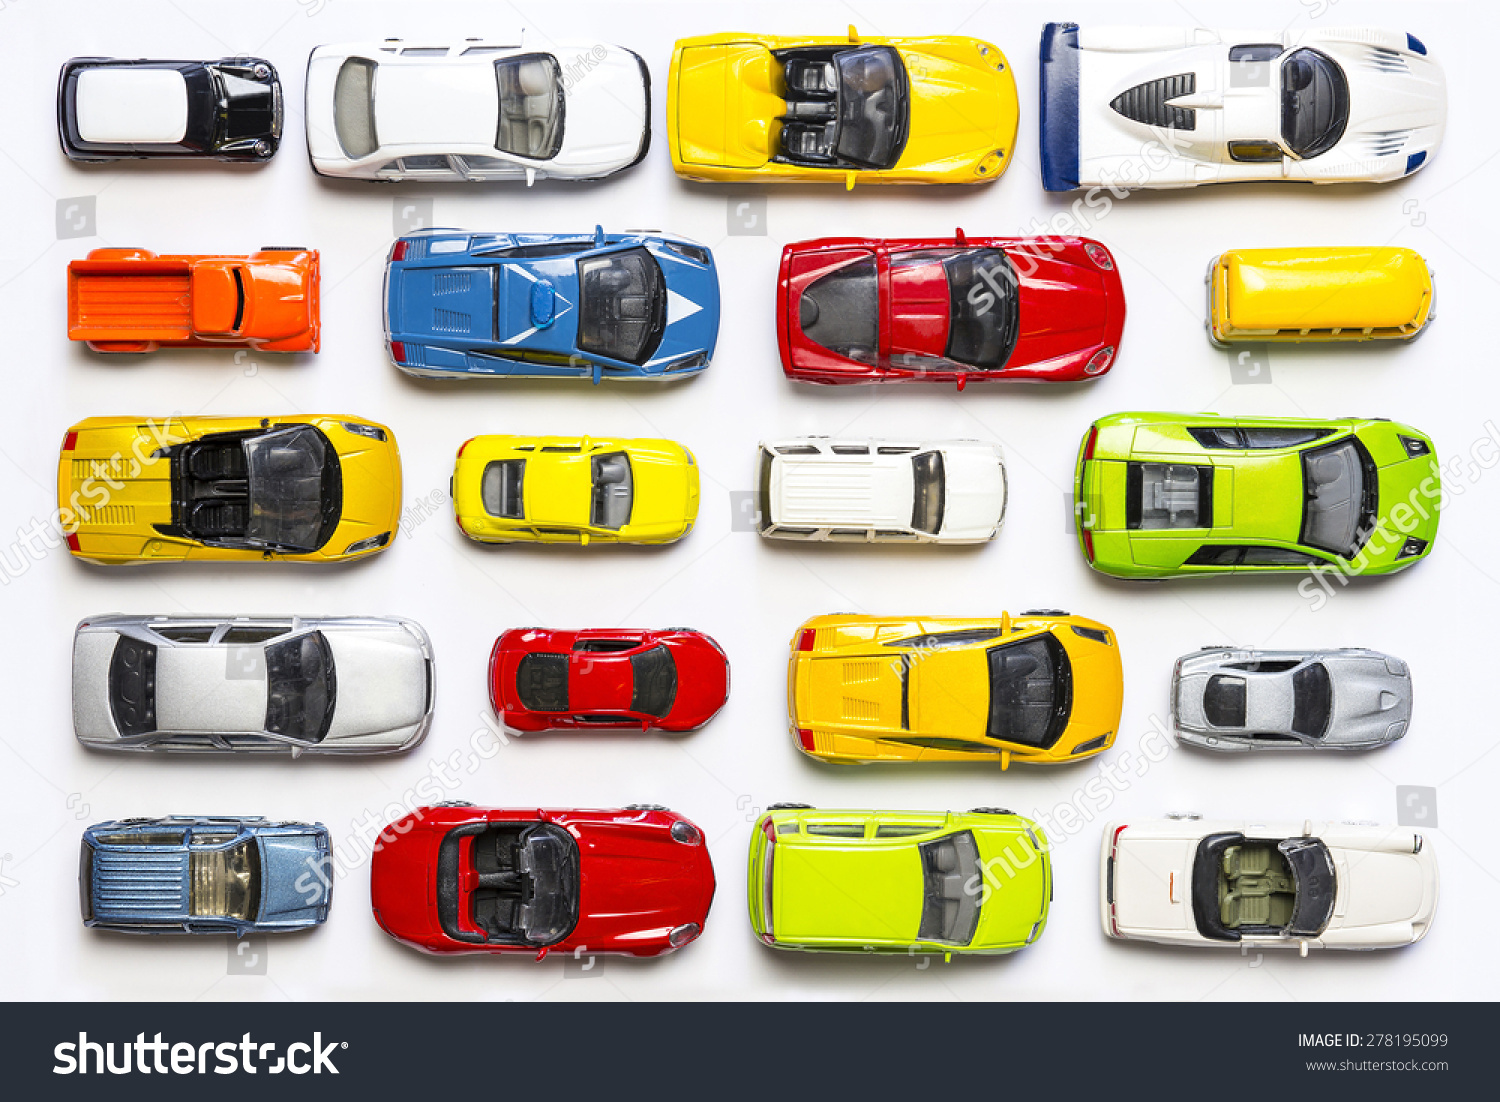Car: (1034, 19, 1457, 196), (1080, 415, 1446, 586), (369, 801, 723, 969), (779, 235, 1128, 401), (790, 607, 1133, 773), (672, 31, 1021, 195), (70, 612, 434, 767), (378, 229, 721, 394), (303, 38, 651, 192), (64, 412, 399, 571), (753, 801, 1059, 972), (1090, 808, 1439, 955), (79, 814, 337, 951), (1165, 633, 1420, 769), (69, 240, 323, 369), (451, 432, 703, 553), (756, 437, 1011, 554), (488, 620, 738, 739), (61, 51, 285, 179)
